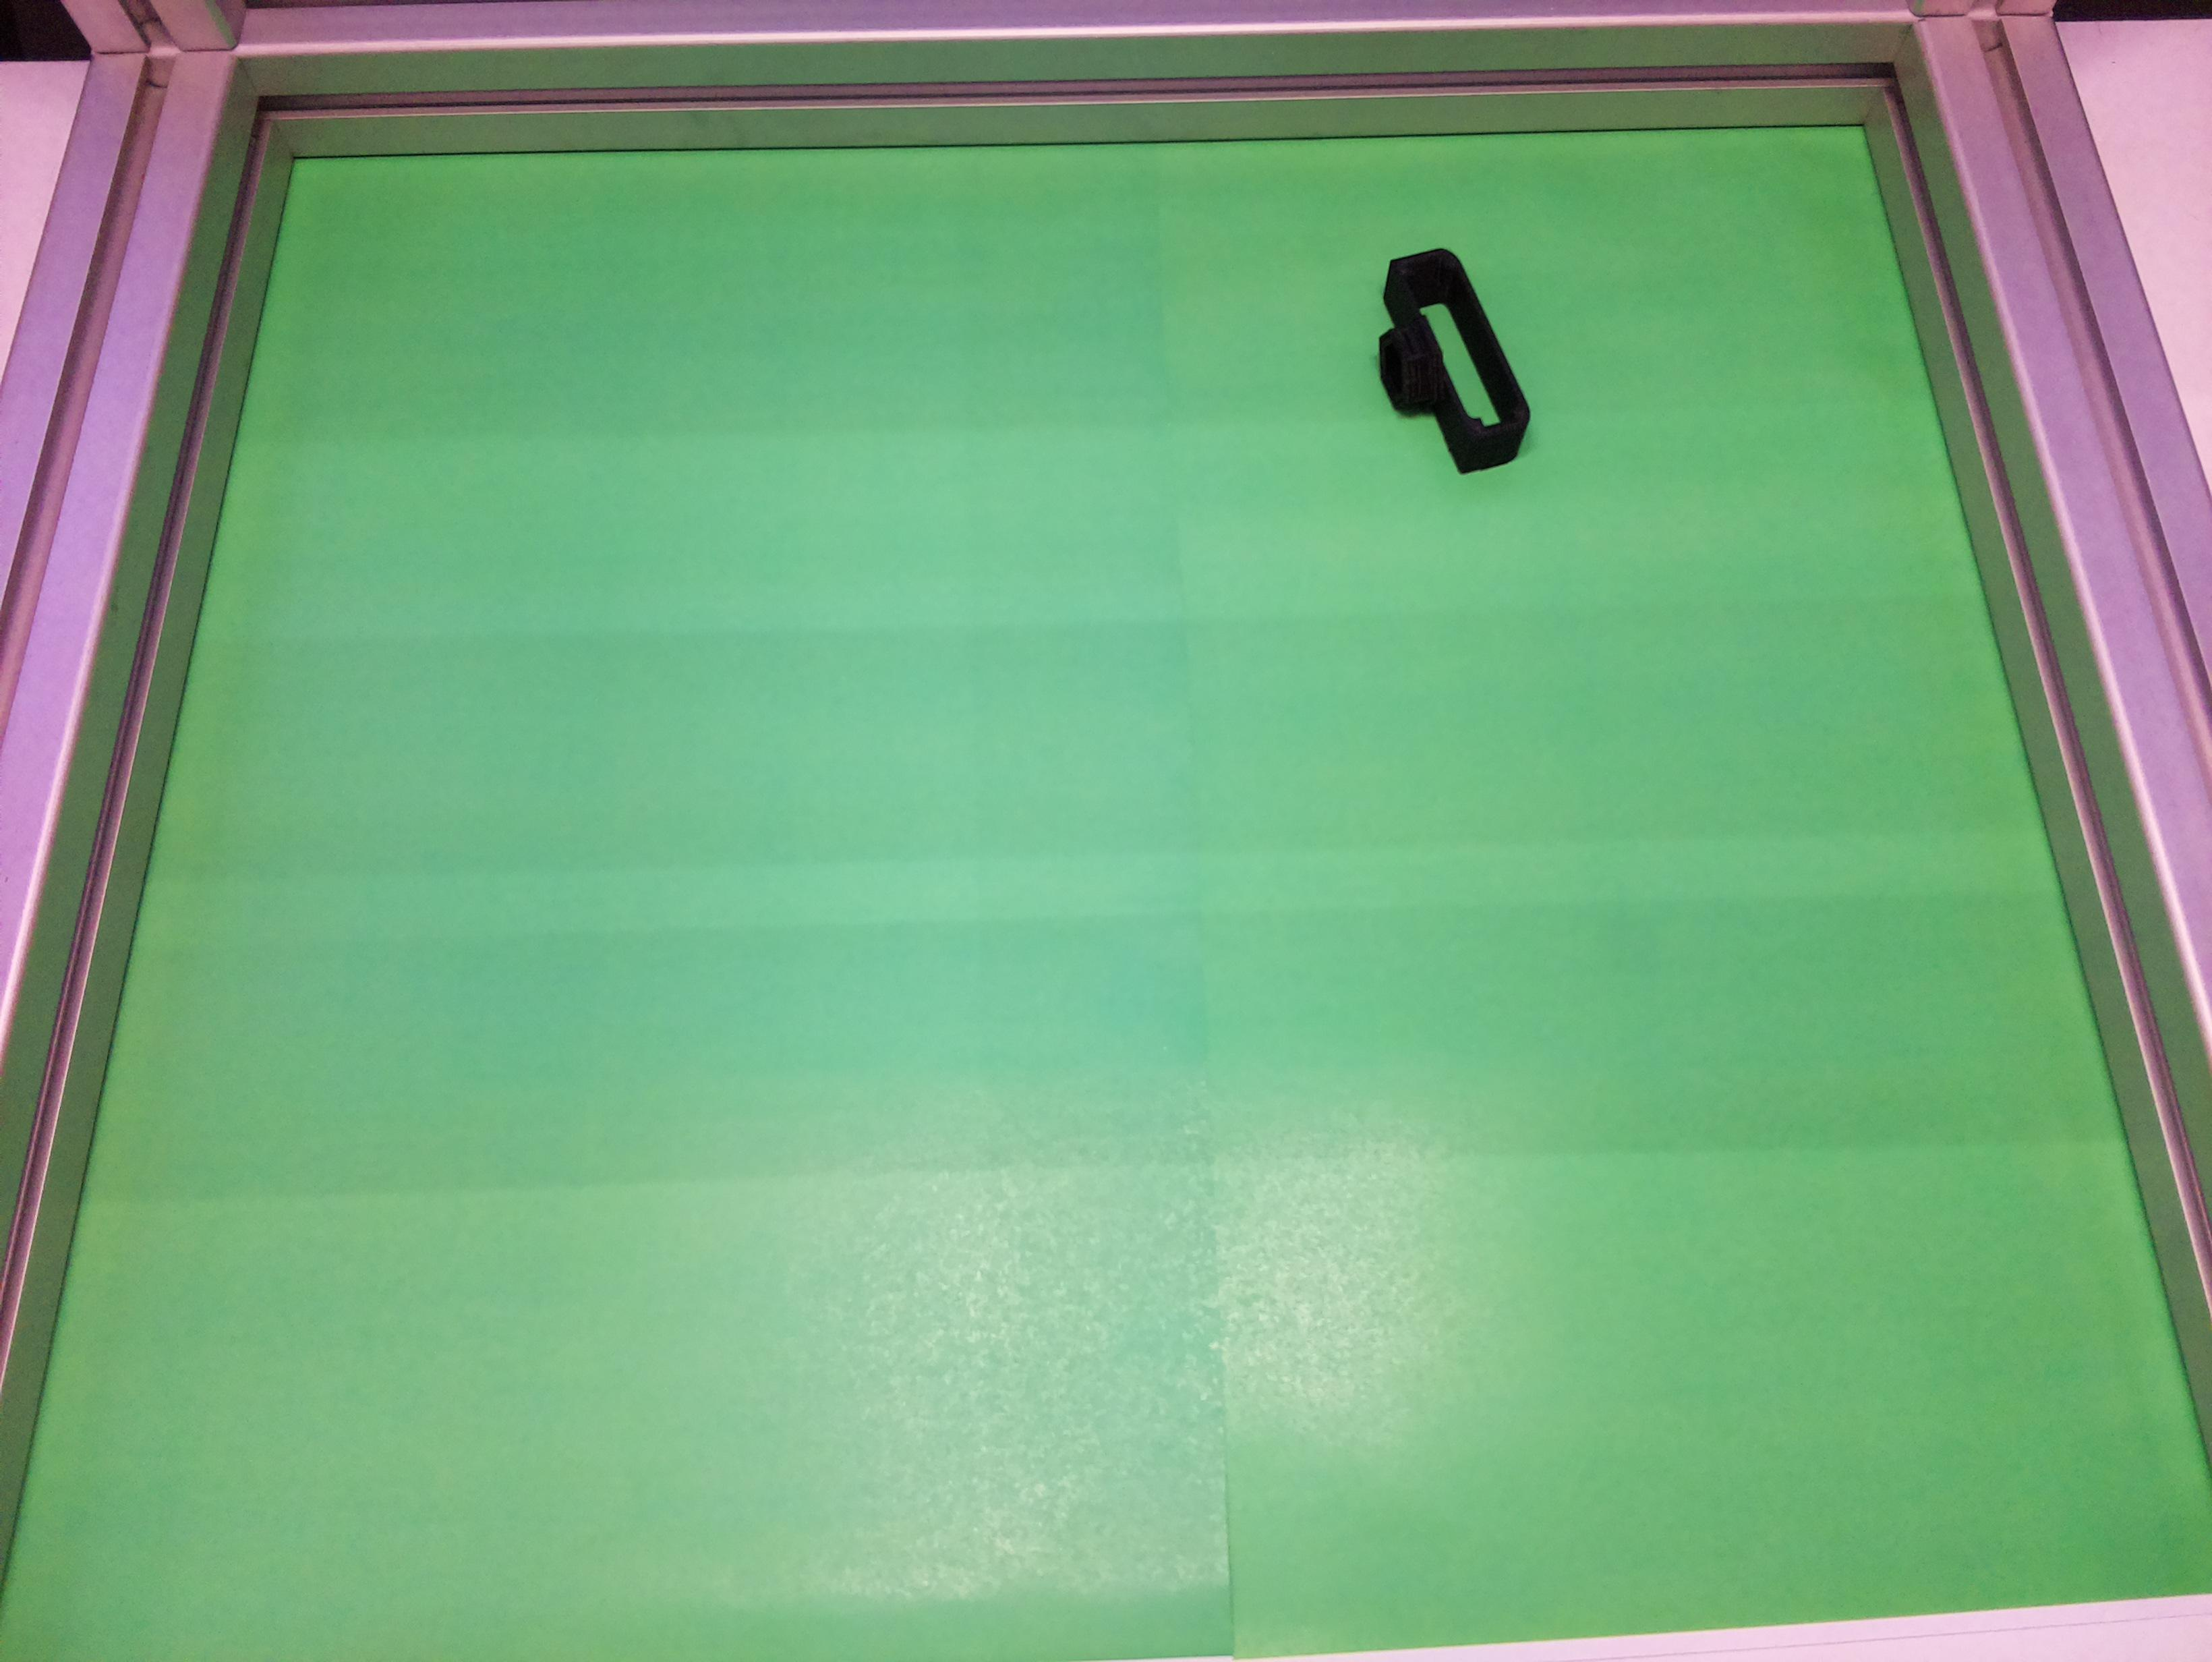cutter_holder: (1336, 234, 1547, 498)
